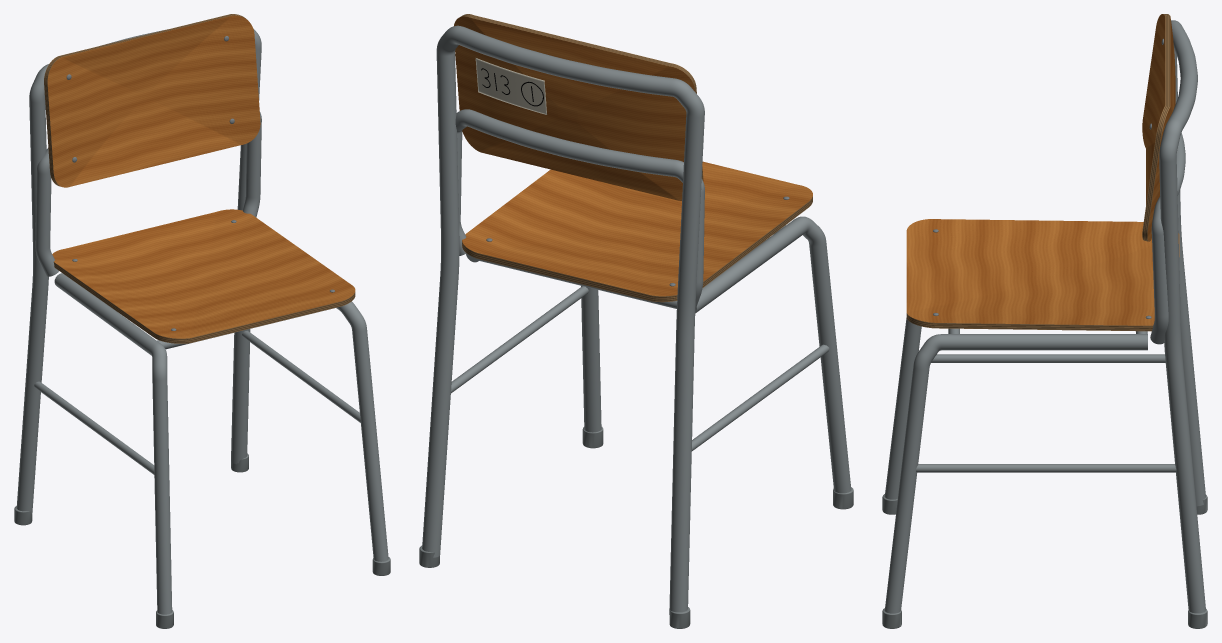
Rendered from chair.glb.
3 views of the same model, side by side, from view 1: azimuth 30°, elevation 25°; view 2: azimuth 150°, elevation 25°; view 3: azimuth 270°, elevation 25° (orthographic). The views are drawn at different scales.
Parts seen in each view (by area): view 1: Chair_Body; view 2: Chair_Body, Chair_Tape_313_Circled1; view 3: Chair_Body.
Boxes of the visible parts, x1=… form: Chair_Body: x1=14, y1=14, x2=390, y2=628; Chair_Body: x1=419, y1=14, x2=853, y2=628; Chair_Tape_313_Circled1: x1=475, y1=58, x2=547, y2=114; Chair_Body: x1=882, y1=14, x2=1207, y2=628.
Bounding box in the file's own units: 0.4244 × 0.8205 × 0.4764.
Materials: 8 (2 with a texture image).
